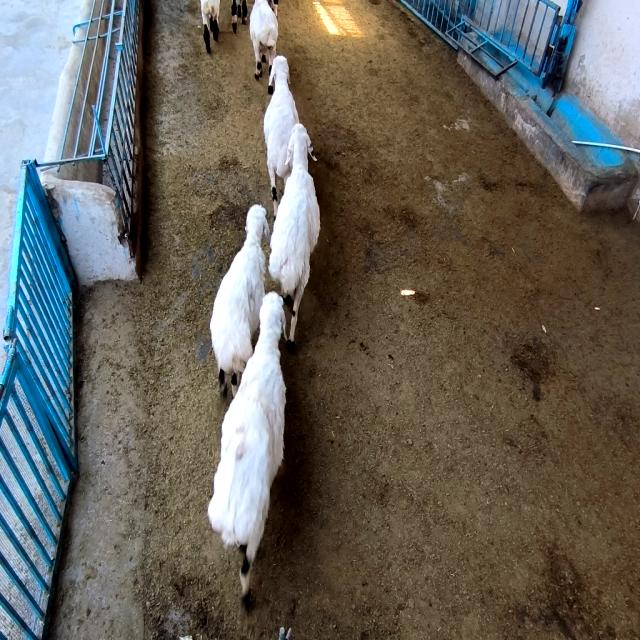sheep: (208, 292, 286, 602), (269, 123, 320, 349), (210, 205, 270, 396), (264, 55, 299, 214), (250, 0, 278, 79), (201, 0, 220, 52)
